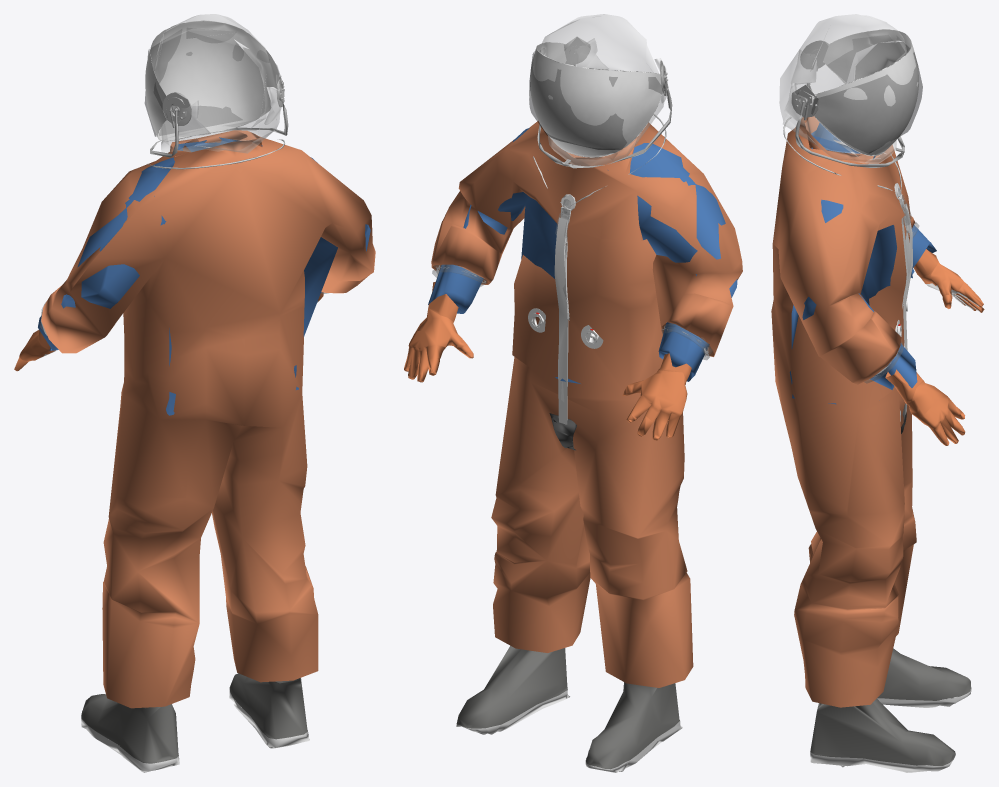
The model's file is advanced-crew-escape-suit.glb.
3 renders of one model, left to right at view 1: azimuth 30°, elevation 25°; view 2: azimuth 150°, elevation 25°; view 3: azimuth 270°, elevation 25°, orthographic. The views are drawn at different scales.
Visible parts, largest first — view 1: Advanced Crew Escape Suit; view 2: Advanced Crew Escape Suit; view 3: Advanced Crew Escape Suit.
Boxes of the visible parts, <box> form: Advanced Crew Escape Suit: <box>14,14,375,772</box>; Advanced Crew Escape Suit: <box>404,14,742,772</box>; Advanced Crew Escape Suit: <box>771,14,984,772</box>.
Bounding box in the file's own units: 0.8855 × 1.99 × 0.5422.
2 materials, 2 textured.
